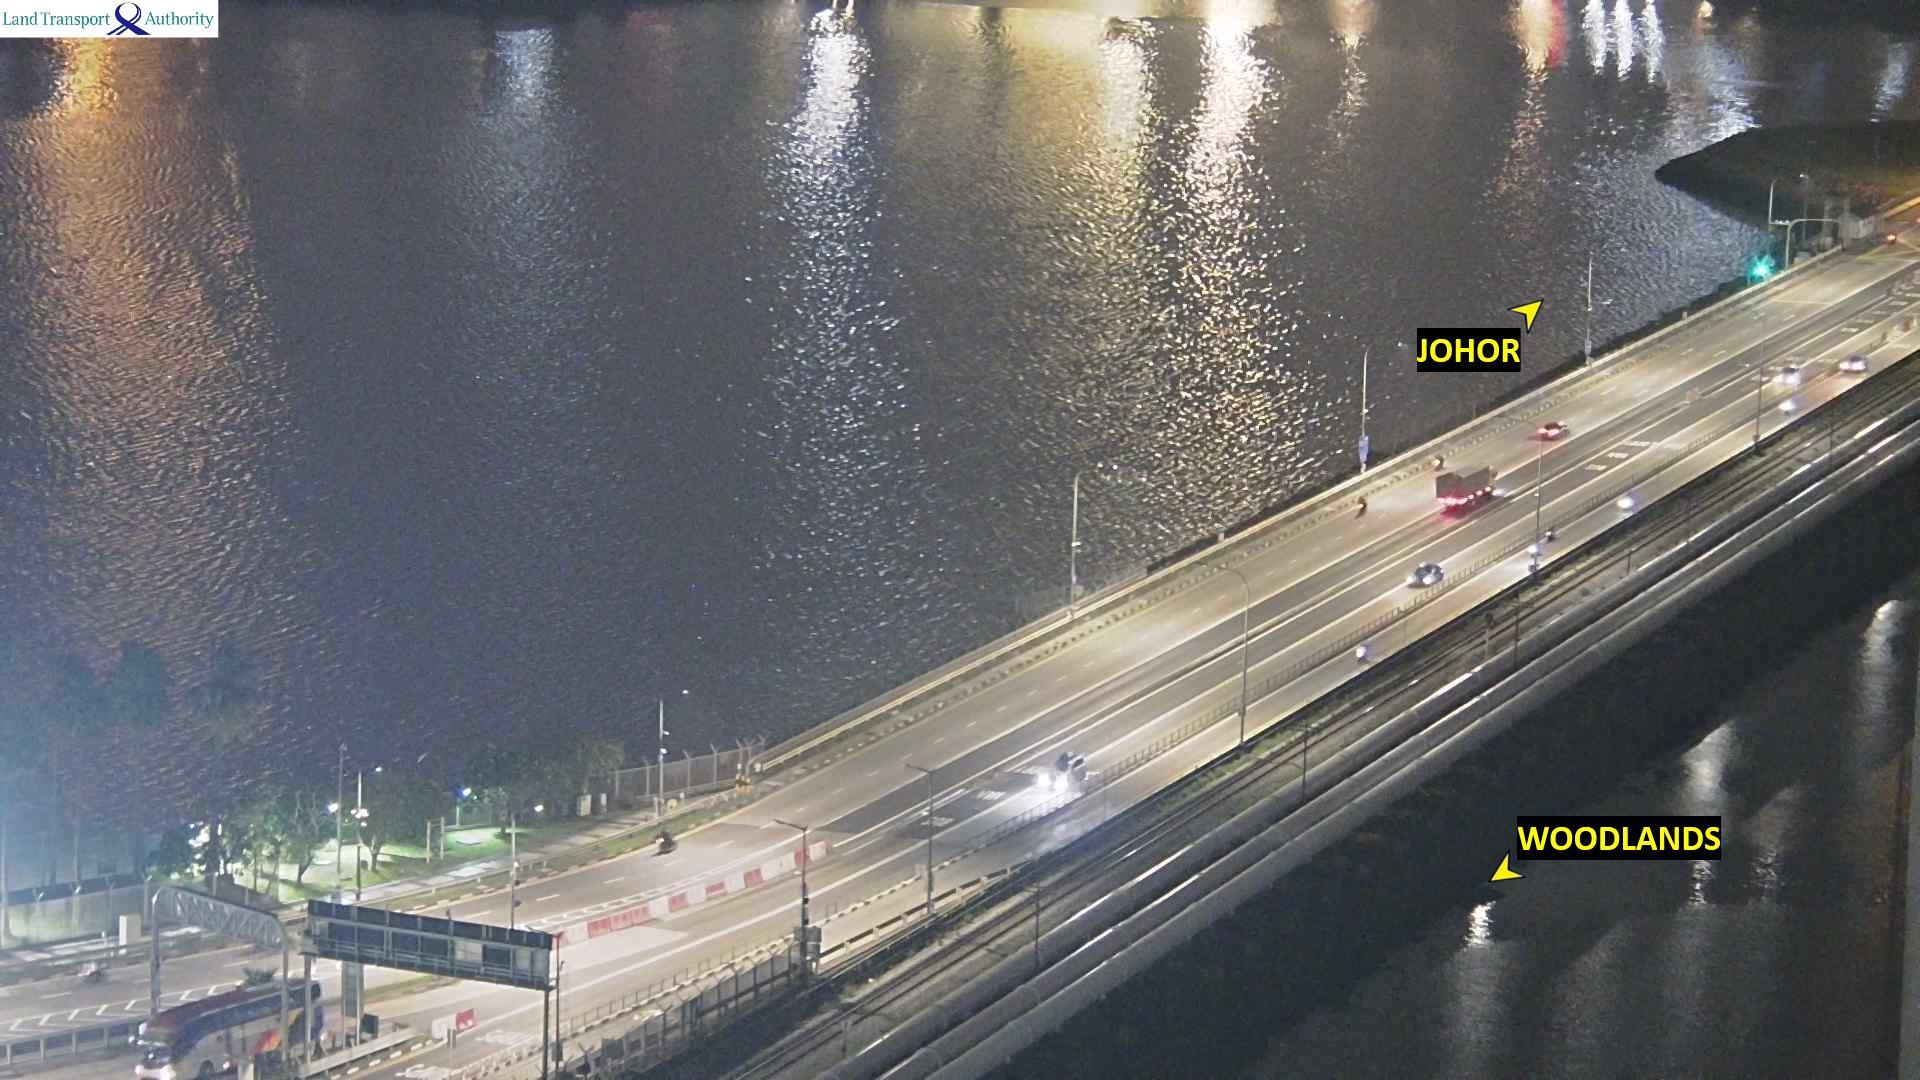vehicle-causeway-johor: (1437, 464, 1494, 510), (1539, 417, 1567, 444), (658, 833, 679, 852), (1356, 500, 1366, 513)
vehicle-causeway-singapore: (135, 981, 323, 1080), (1052, 753, 1087, 785), (1411, 559, 1440, 585), (1772, 363, 1803, 388), (1841, 355, 1869, 376), (1615, 497, 1634, 514), (1782, 398, 1799, 417), (1357, 646, 1366, 663), (1549, 527, 1559, 542)
